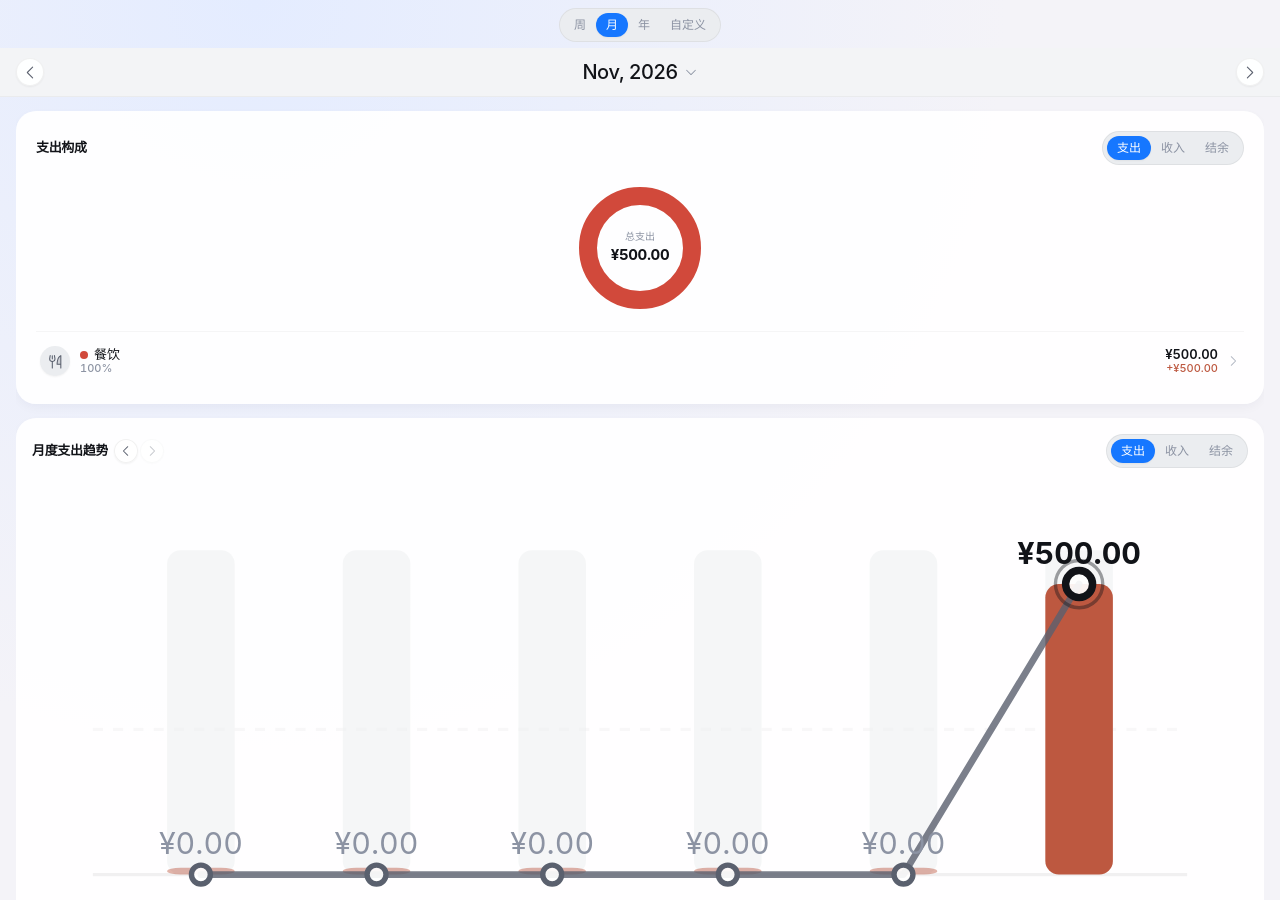
Test: Modular Stats & UI Components › StatsView switches dimensions smoothly inside separate chart cards
This screenshot has width=1280, height=900.
Check: the text "支出构成" is shown, box [36,138,87,158]
Check: the text "月度支出趋势" is shown, box [32,441,108,461]
Click the button "收入" in the row of "支出构成".
click(1173, 148)  # box [1151,136,1195,160]
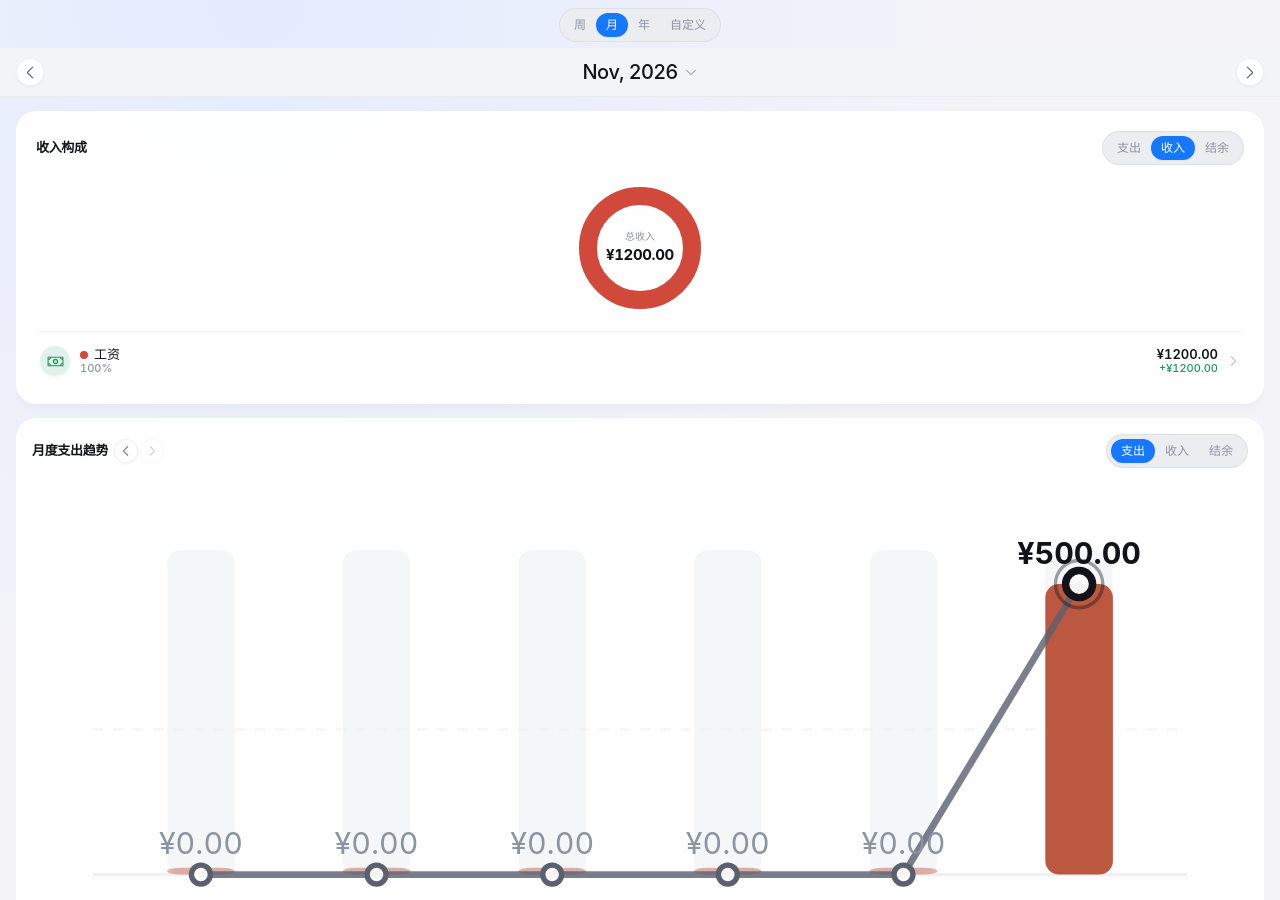
Check: the text "月度支出趋势" is shown, box [32,441,108,461]
Check: the text "收入构成" is shown, box [36,138,87,158]
Check: the text "总收入" is shown, box [625,229,655,244]
Click the button "结余" in the row of "月度支出趋势".
click(1221, 451)  # box [1199,439,1243,463]
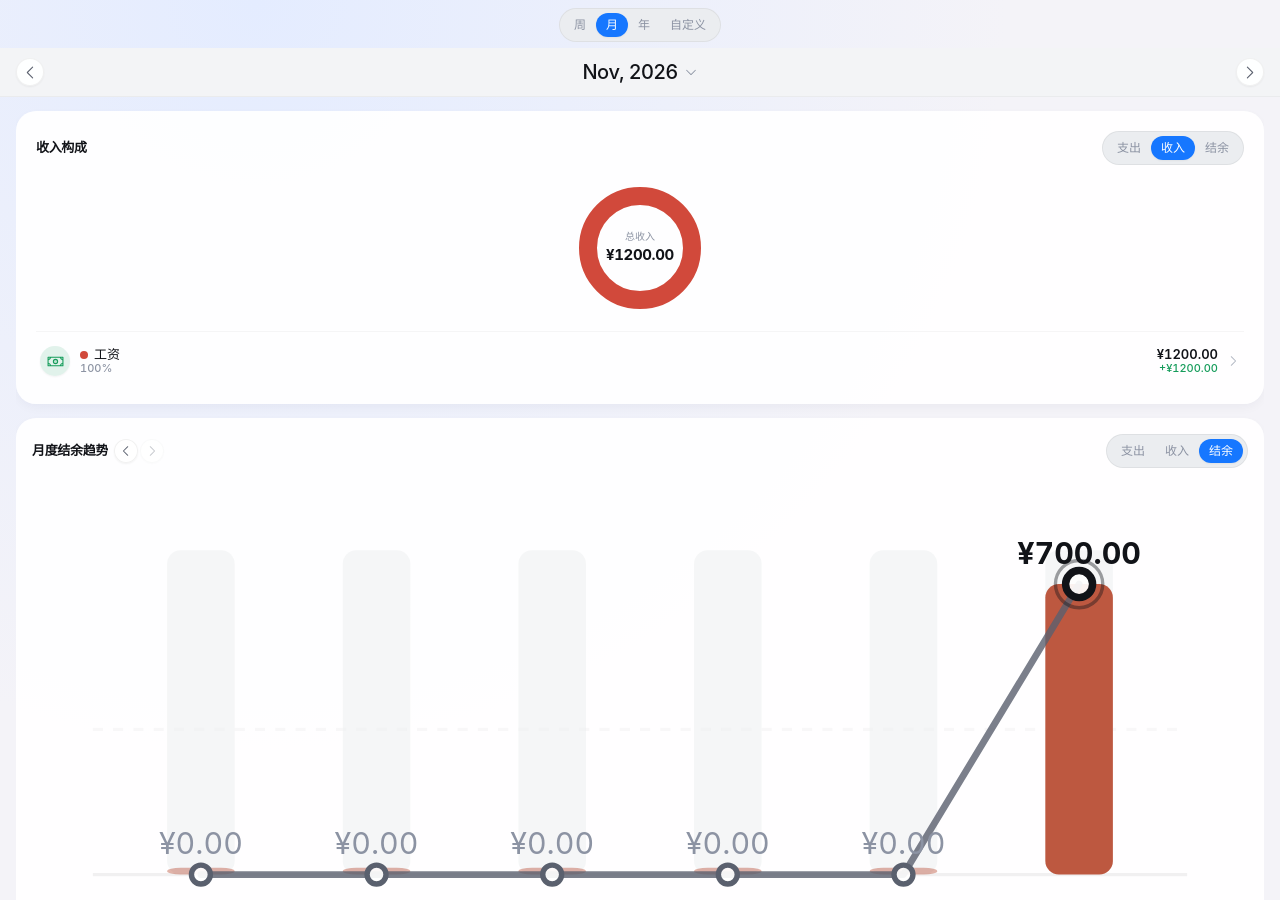
Check: the text "收入构成" is shown, box [36,138,87,158]
Check: the text "月度结余趋势" is shown, box [32,441,108,461]
Click the button "结余" in the row of "收入构成".
click(1217, 148)  # box [1195,136,1239,160]
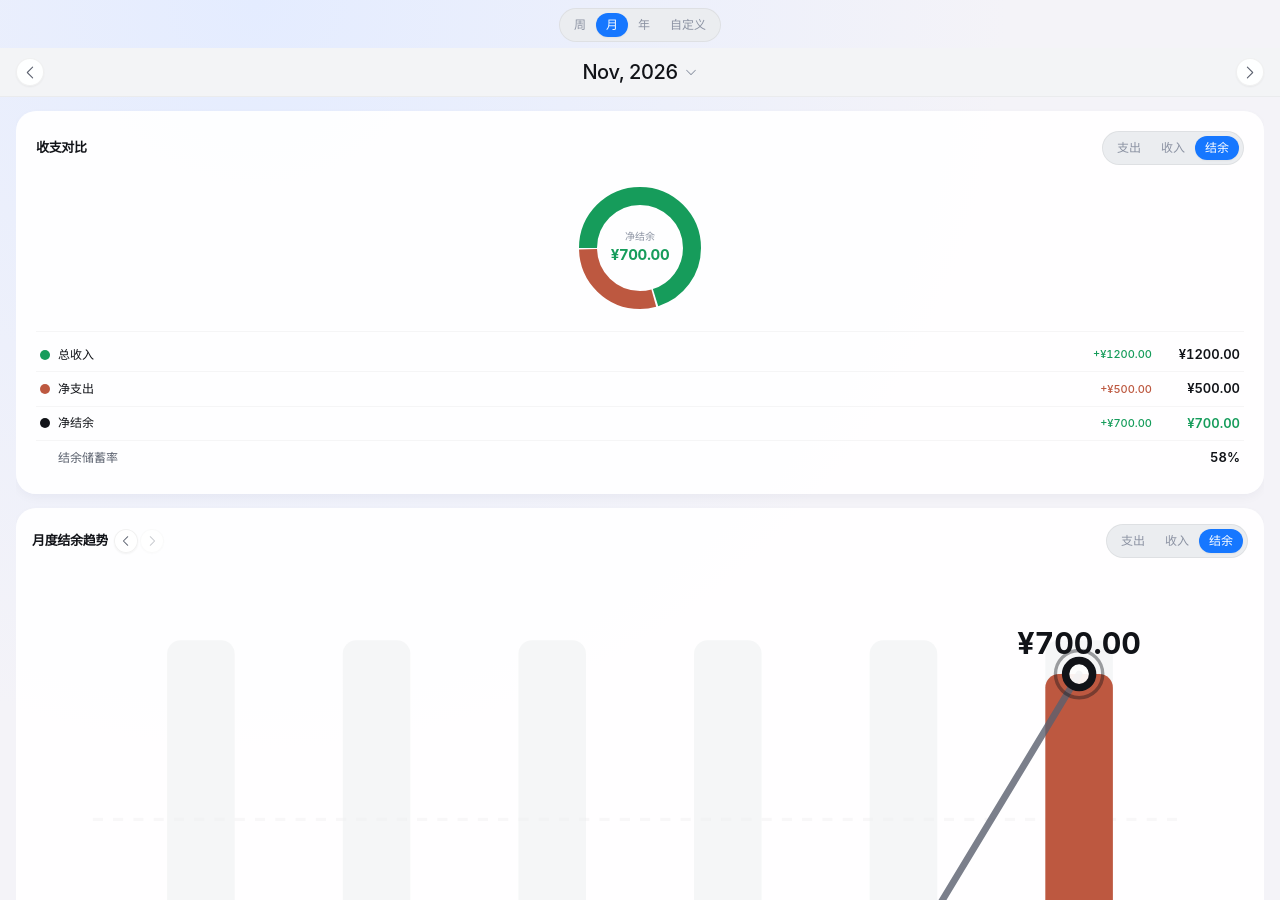
Check: the text "收支对比" is shown, box [36,138,87,158]
Check: the text "结余储蓄率" is shown, box [58,450,118,466]
Check: the text "¥500.00" is shown, box [1187,380,1240,396]
